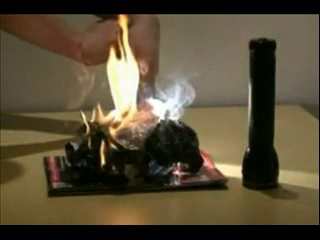fire: (78, 104, 136, 166), (106, 14, 140, 108)
smoke: (144, 75, 198, 124)
